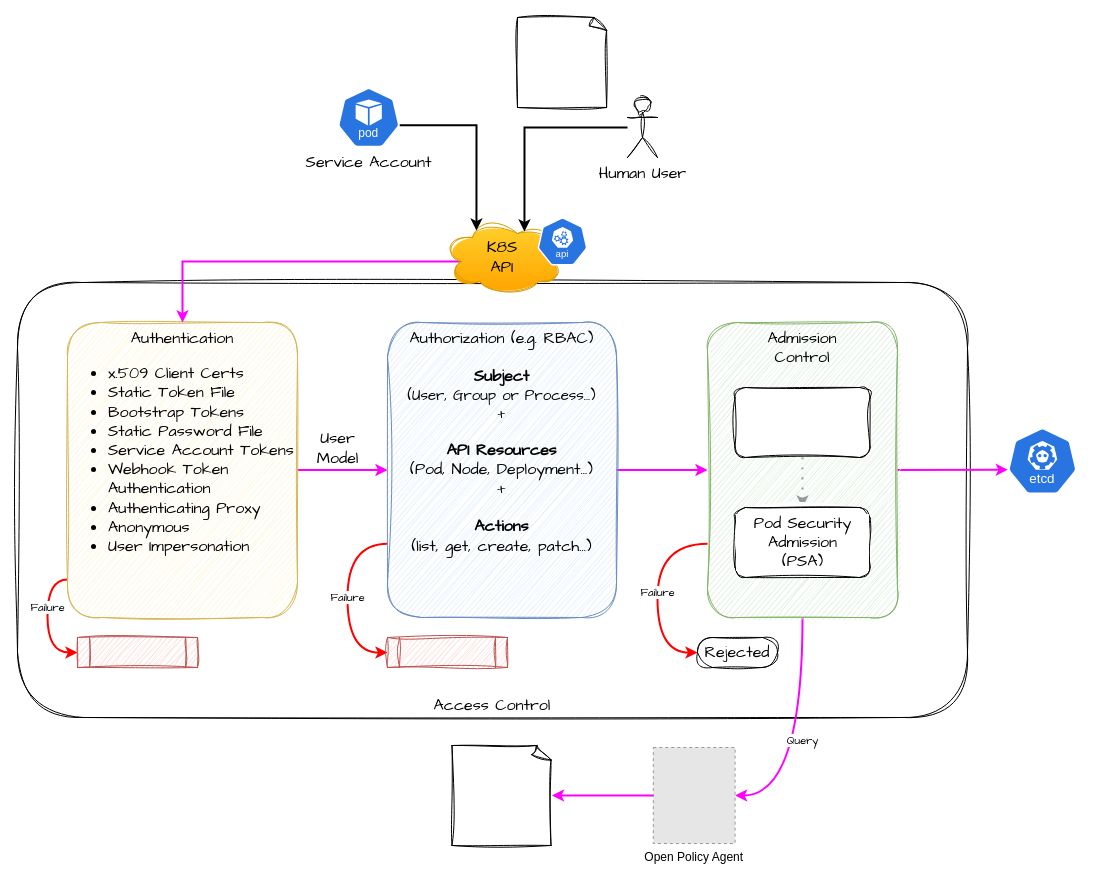
The diagram is 1095 pixels wide and 882 high, and some of its shapes have lost their labels. Grey dashed boxes stand in for pictures. Here are the shapes that lost their labels. From the top down, the centre of each, then its label:
At pixel 562 62: "e.g. Certificate in Kubeconfig".
At pixel 802 422: "PSP (Deprecated)".
At pixel 137 652: "Error 401".
At pixel 447 652: "Error 403".
At pixel 501 795: "Rego Policies".
